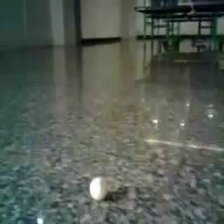w: (89, 176, 109, 201)
